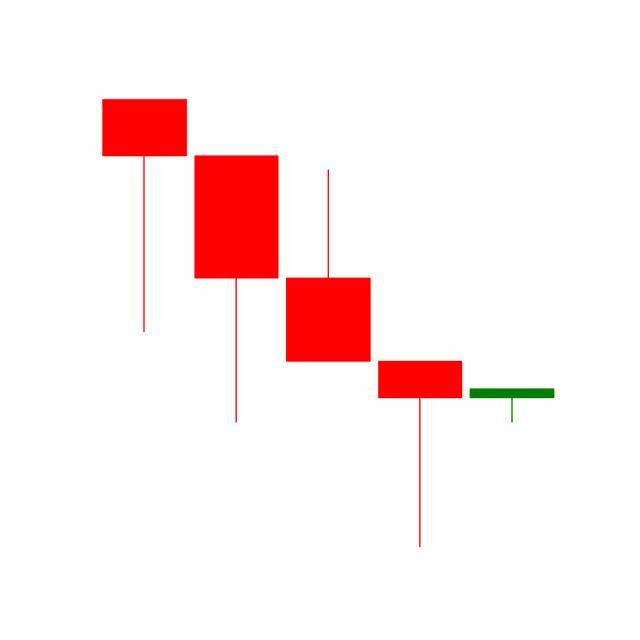Hammer: (374, 359, 468, 550)
